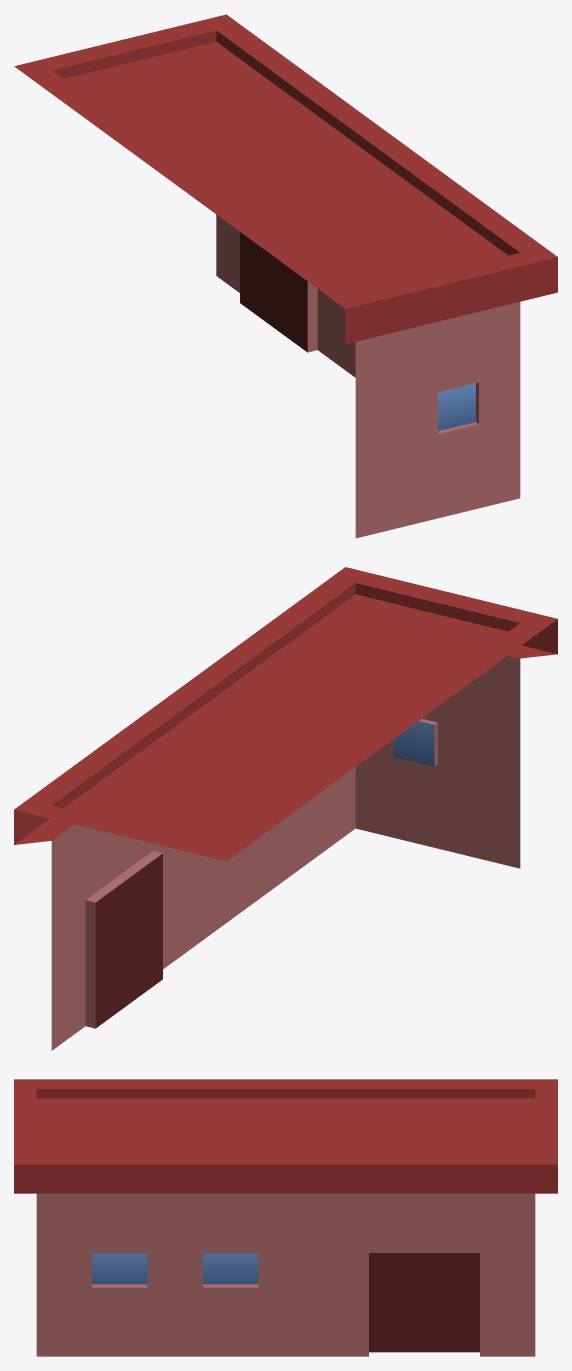
The model's file is red_house.fbx.
The picture shows the model from 3 angles, top to bottom: view 1: azimuth 30°, elevation 25°; view 2: azimuth 150°, elevation 25°; view 3: azimuth 270°, elevation 25°; orthographic projection. The views are drawn at different scales.
Parts seen in each view (by area): view 1: red_house; view 2: red_house; view 3: red_house.
Boxes of the visible parts, bbox=[...] form: red_house: bbox=[14, 14, 557, 538]; red_house: bbox=[14, 567, 557, 1050]; red_house: bbox=[14, 1079, 557, 1356].
Size of the model in its own units: 580 by 640 by 1567.
Materials: 1 (1 with a texture image).
